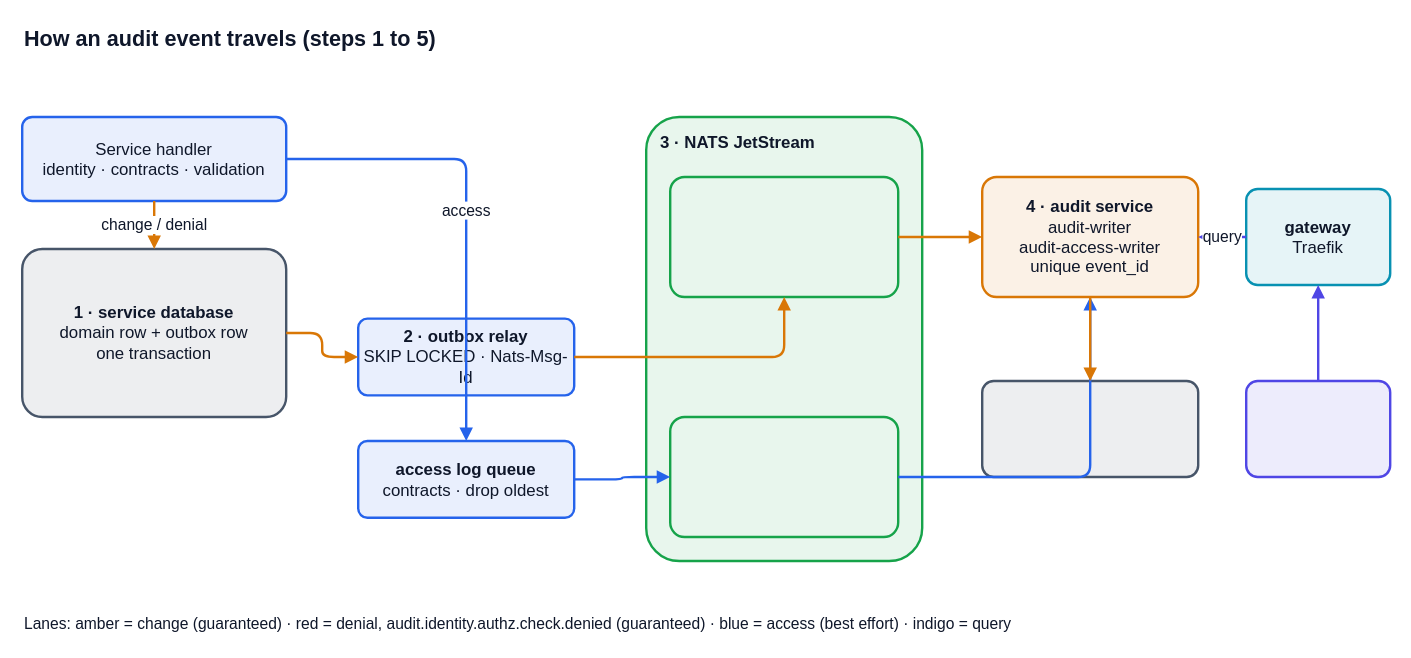
This 1411x658 diagram has some shape labels left out. Each missing label, with the box of its shape:
5 · reader GET /events: (1244, 379, 1391, 478)
audit database audit_event + audit_dead_letter: (980, 379, 1199, 478)
stream ACCESS access.> 7 days · 1 GiB · discard old: (668, 415, 899, 538)
stream AUDIT audit.> kept · 120 s dedupe: (668, 175, 899, 298)
